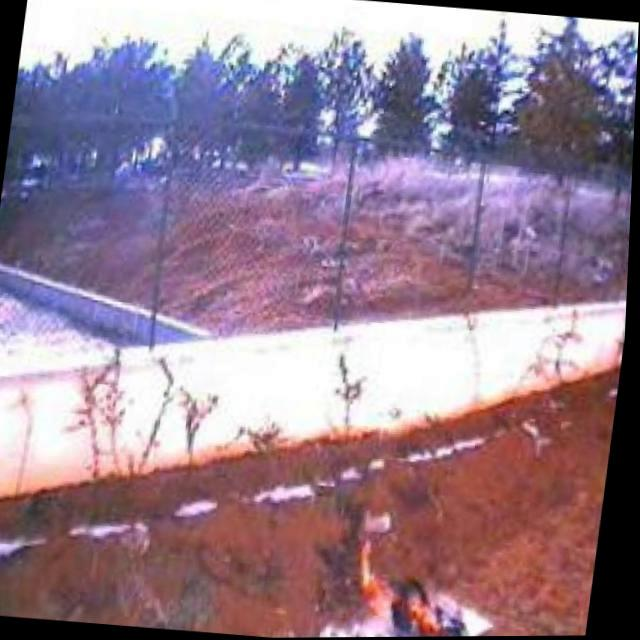fire: (354, 538, 470, 638)
